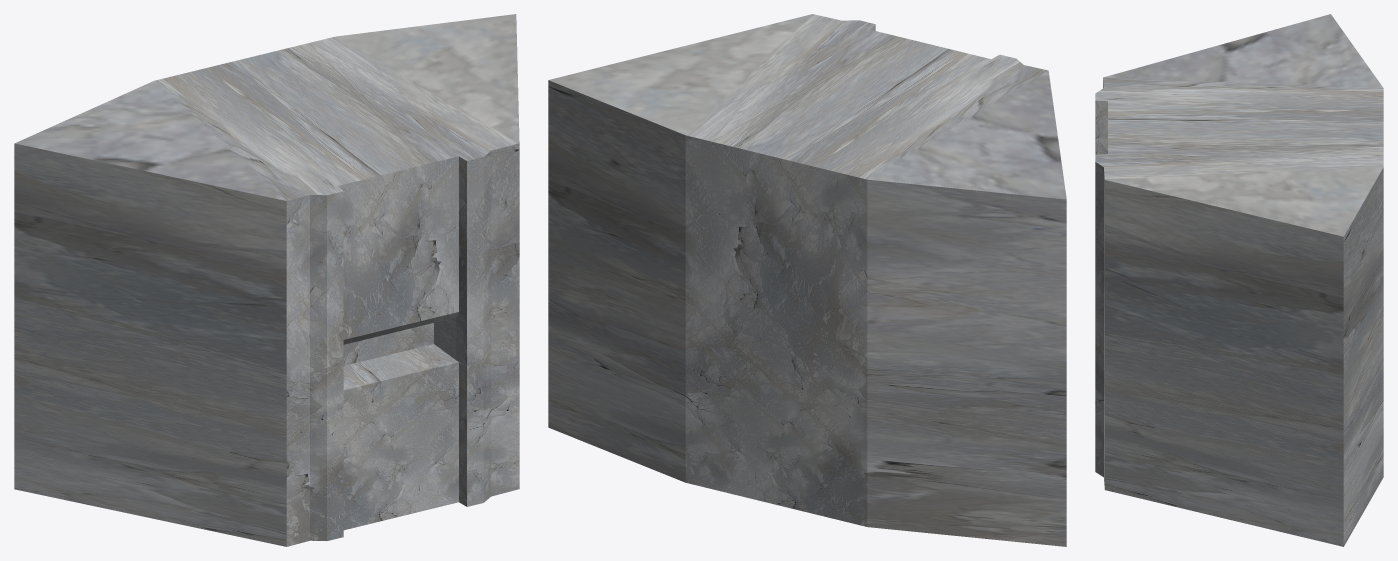
Rendered from judge_box.obj.
3 renders of one model, left to right at view 1: azimuth 30°, elevation 25°; view 2: azimuth 150°, elevation 25°; view 3: azimuth 270°, elevation 25°, orthographic. The views are drawn at different scales.
Visible parts, largest first — view 1: JudgeBox_Plane; view 2: JudgeBox_Plane; view 3: JudgeBox_Plane.
Boxes of the visible parts, left/top/right/bottom form: JudgeBox_Plane: left=14, top=14, right=519, bottom=546; JudgeBox_Plane: left=548, top=14, right=1066, bottom=546; JudgeBox_Plane: left=1095, top=14, right=1383, bottom=546.
Bounding box in the file's own units: 15.92 × 10.34 × 8.7.
